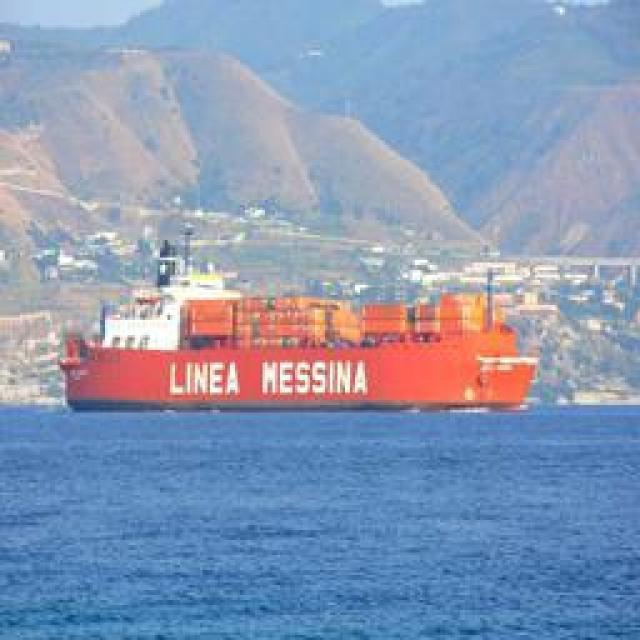ship2: (59, 226, 541, 413)
